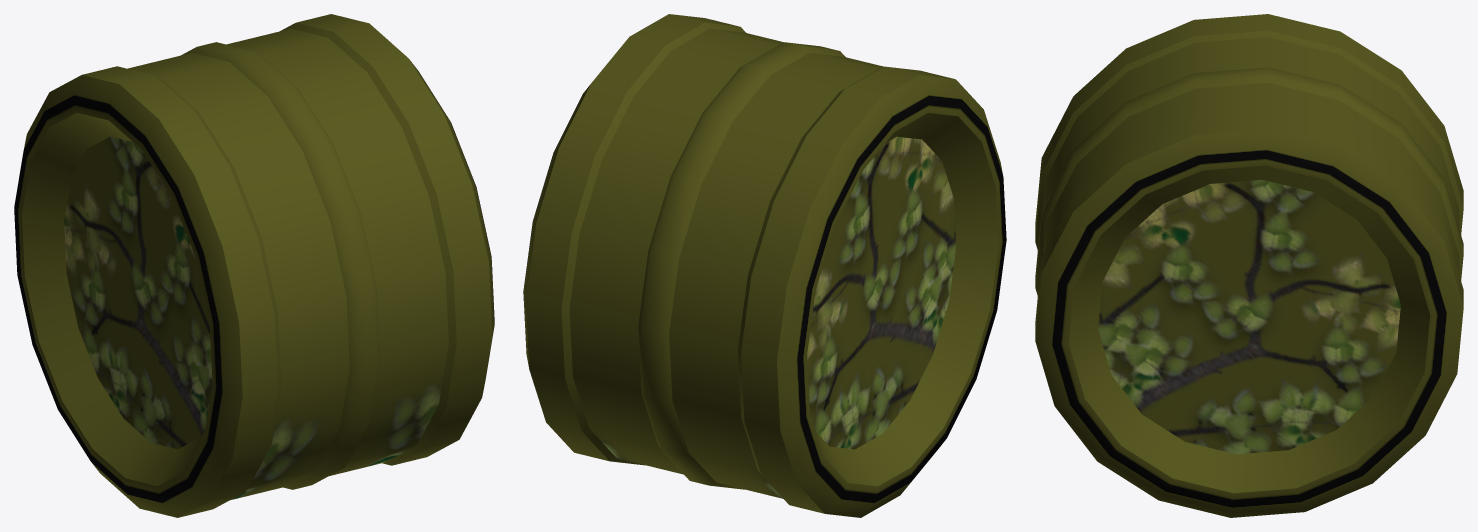
Rendered from Pipe_m_a.FBX.
3 renders of one model, left to right at view 1: azimuth 30°, elevation 25°; view 2: azimuth 150°, elevation 25°; view 3: azimuth 270°, elevation 25°, orthographic. The views are drawn at different scales.
Visible parts, largest first — view 1: pipe_m_a; view 2: pipe_m_a; view 3: pipe_m_a.
Part boxes in pixels (x1,y1,x2,y2): pipe_m_a: (14,14,494,517); pipe_m_a: (523,14,1006,517); pipe_m_a: (1035,14,1463,517).
Size of the model in its own units: 0.9284 by 1.32 by 1.32.
